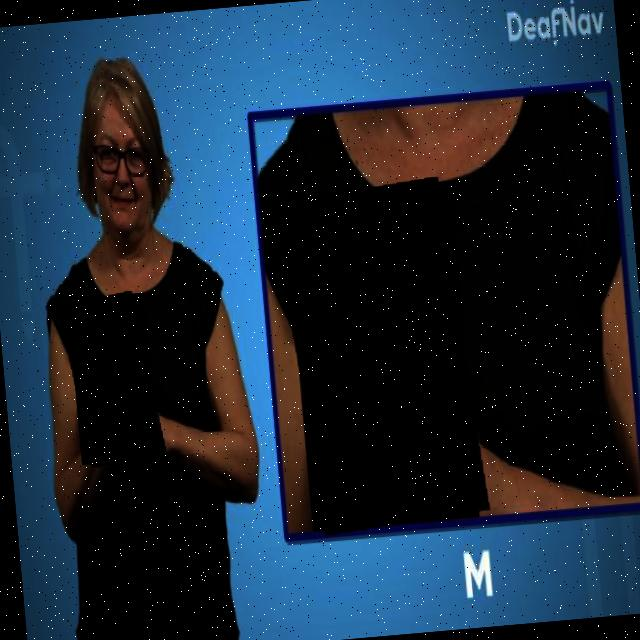M: (278, 179, 487, 536), (64, 291, 164, 469)
